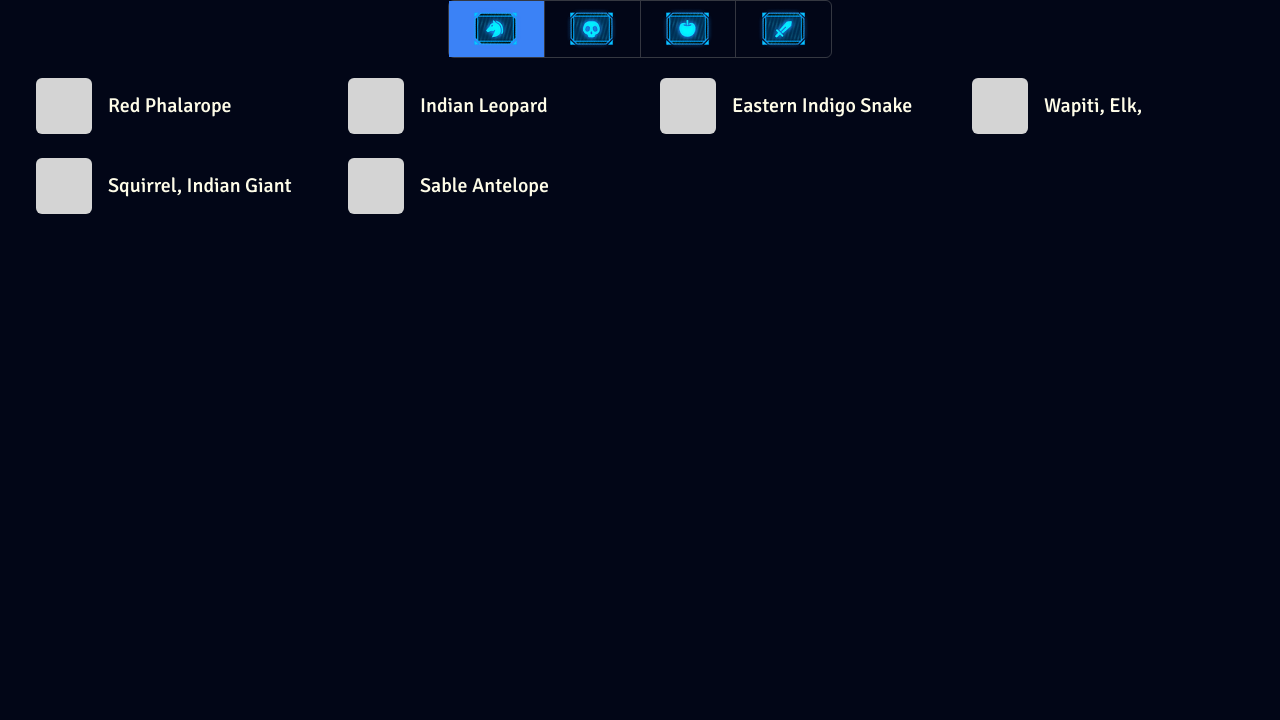
Test: renders an entry modal in detail on click
Check: the text "Duis ac nibh." is not shown
# click this modal trigger
Click the button "Wapiti, Elk," at [1108, 106], box top-left (956, 70), bottom-right (1260, 142)
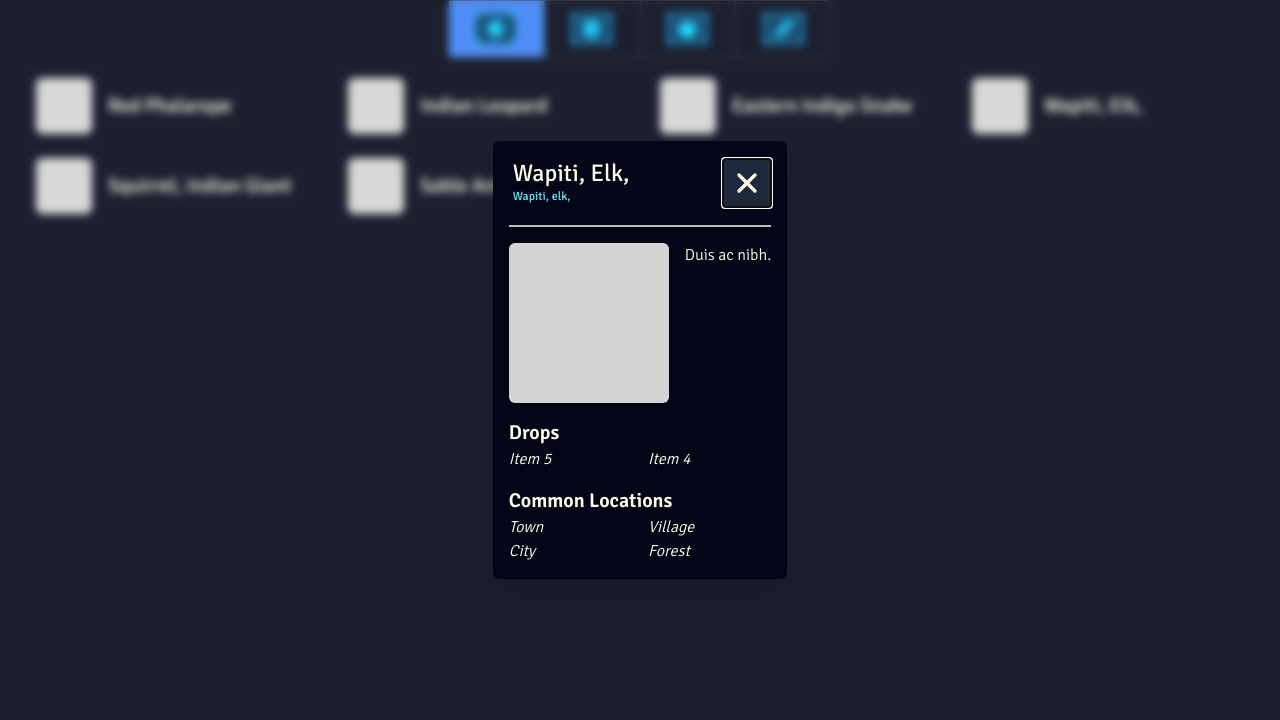
Check: the text "Wapiti, elk," is shown, box top-left (513, 189), bottom-right (570, 204)
Check: the text "Duis ac nibh." is shown, box top-left (685, 243), bottom-right (771, 267)
